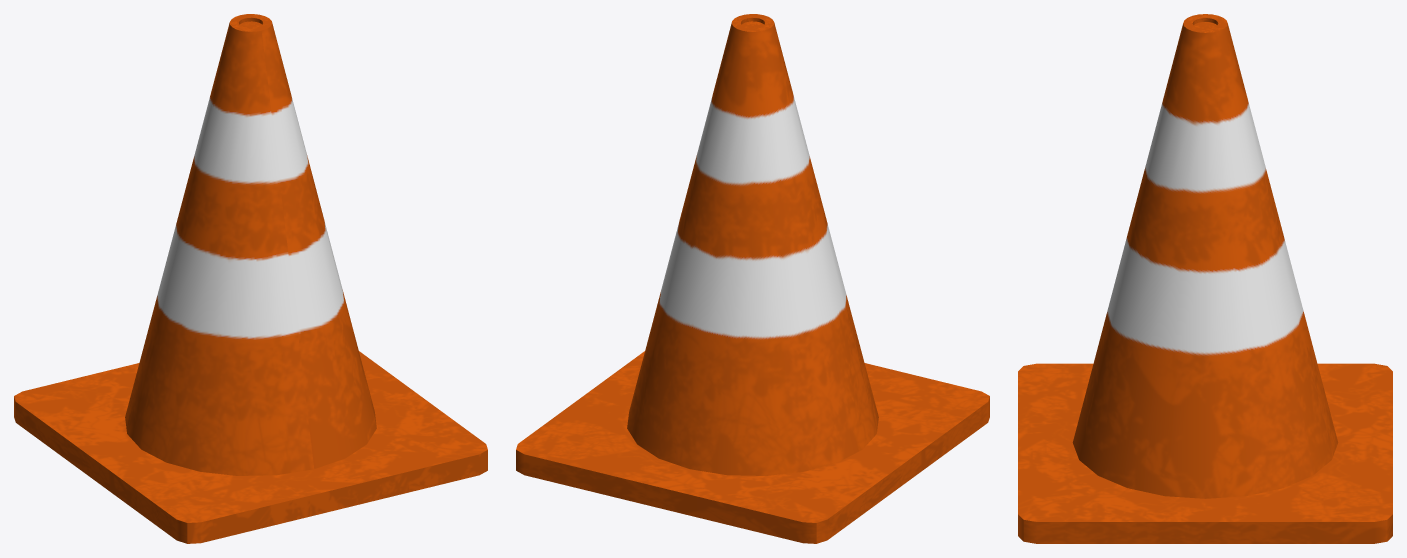
File: Traffic_cone_01 1.fbx
3 renders of one model, left to right at view 1: azimuth 30°, elevation 25°; view 2: azimuth 150°, elevation 25°; view 3: azimuth 270°, elevation 25°, orthographic. The views are drawn at different scales.
Parts seen in each view (by area): view 1: Cone; view 2: Cone; view 3: Cone.
Part boxes in pixels (box(x1,y1,x2,y2)): Cone: box(14, 14, 487, 543); Cone: box(516, 14, 989, 543); Cone: box(1018, 14, 1392, 543).
Size of the model in its own units: 45.73 by 59.41 by 45.73.
Materials: 1 (1 with a texture image).
